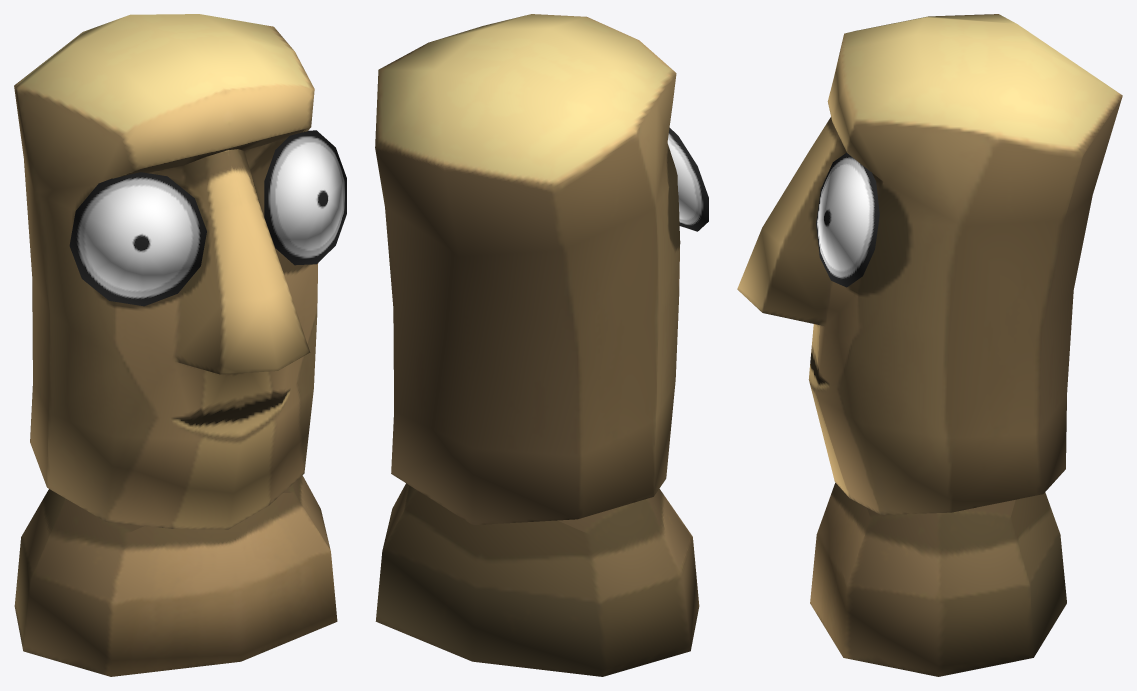
Rendered from shixiang.FBX.
3 views of the same model, side by side, from view 1: azimuth 30°, elevation 25°; view 2: azimuth 150°, elevation 25°; view 3: azimuth 270°, elevation 25° (orthographic).
Visible parts, largest first — view 1: shixiang; view 2: shixiang; view 3: shixiang.
Boxes of the visible parts, x1=… form: shixiang: x1=14, y1=14, x2=346, y2=676; shixiang: x1=375, y1=14, x2=708, y2=676; shixiang: x1=737, y1=14, x2=1122, y2=676.
Size of the model in its own units: 640 by 1151 by 708.
